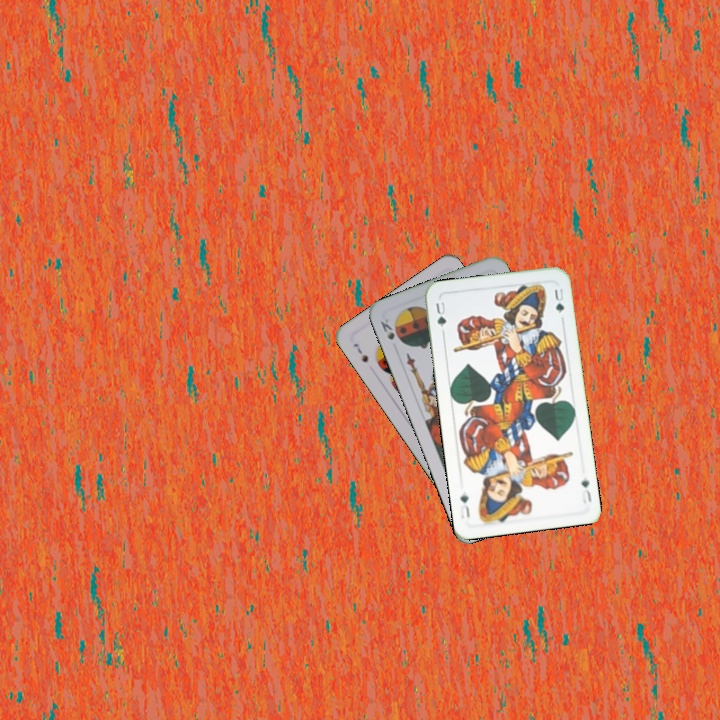GU: (432, 298, 449, 330), (577, 475, 594, 506)
S7: (350, 339, 371, 365)
SK: (376, 314, 403, 345)
